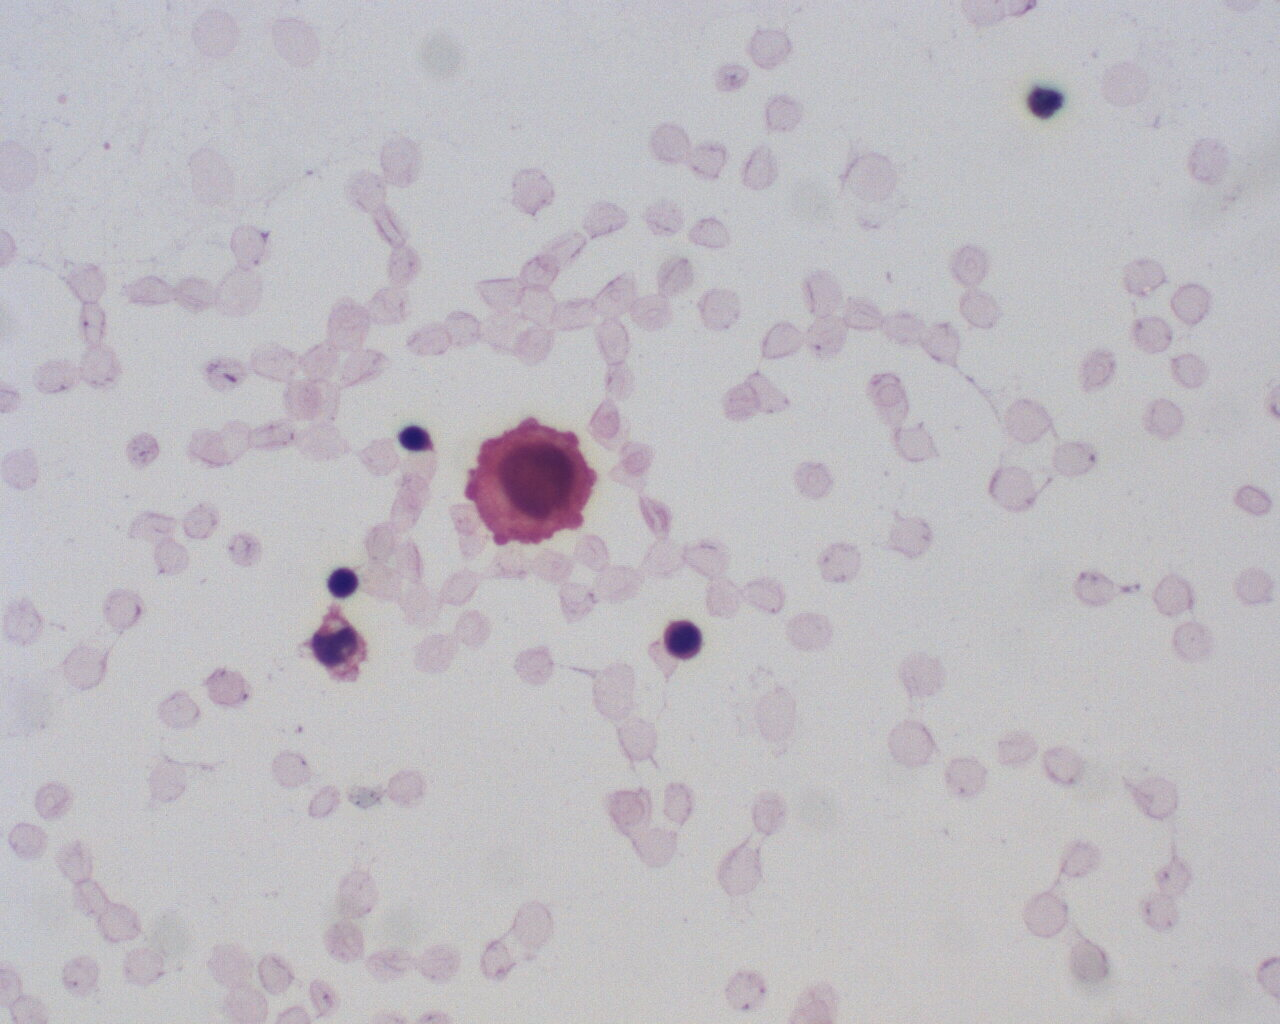ab: (464, 415, 597, 550)
lymph: (661, 613, 706, 664), (320, 559, 367, 602)
